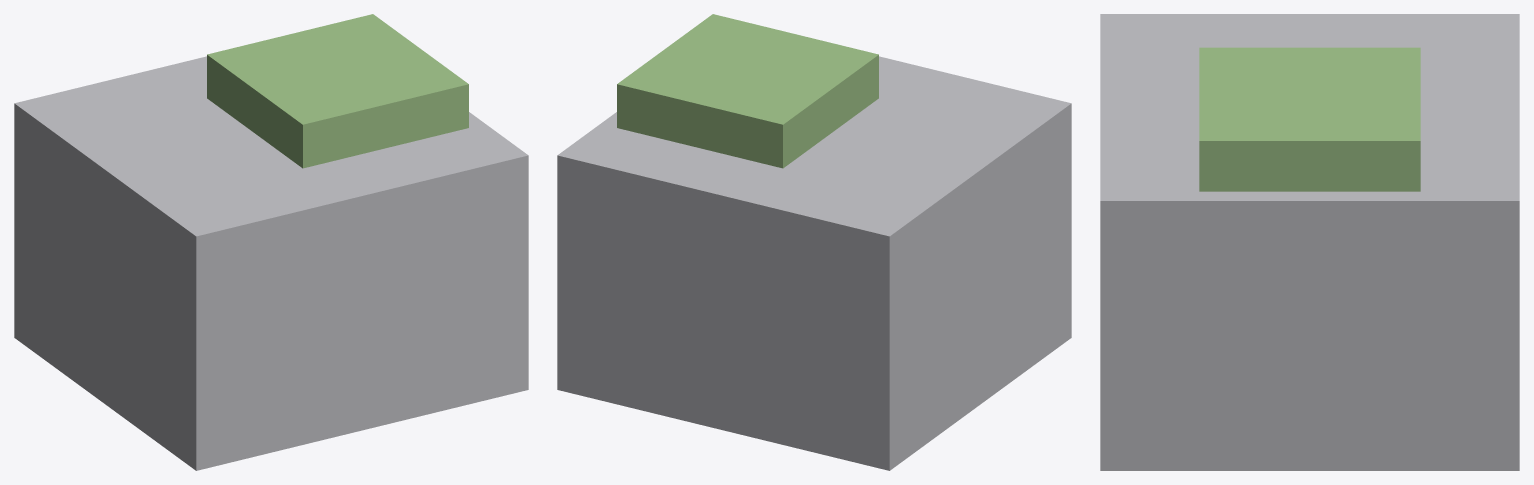
Rendered from Prop_Dress_AMF_Rock_V20.glb.
3 renders of one model, left to right at view 1: azimuth 30°, elevation 25°; view 2: azimuth 150°, elevation 25°; view 3: azimuth 270°, elevation 25°, orthographic. The views are drawn at different scales.
Visible parts, largest first — view 1: Prop_Dress_AMF_Rock_V20; view 2: Prop_Dress_AMF_Rock_V20; view 3: Prop_Dress_AMF_Rock_V20.
Boxes of the visible parts, box(x1,y1,x2,y2) form: Prop_Dress_AMF_Rock_V20: box(14, 14, 528, 470); Prop_Dress_AMF_Rock_V20: box(557, 14, 1071, 470); Prop_Dress_AMF_Rock_V20: box(1100, 14, 1519, 470).
Size of the model in its own units: 0.6601 by 0.5281 by 0.626.
